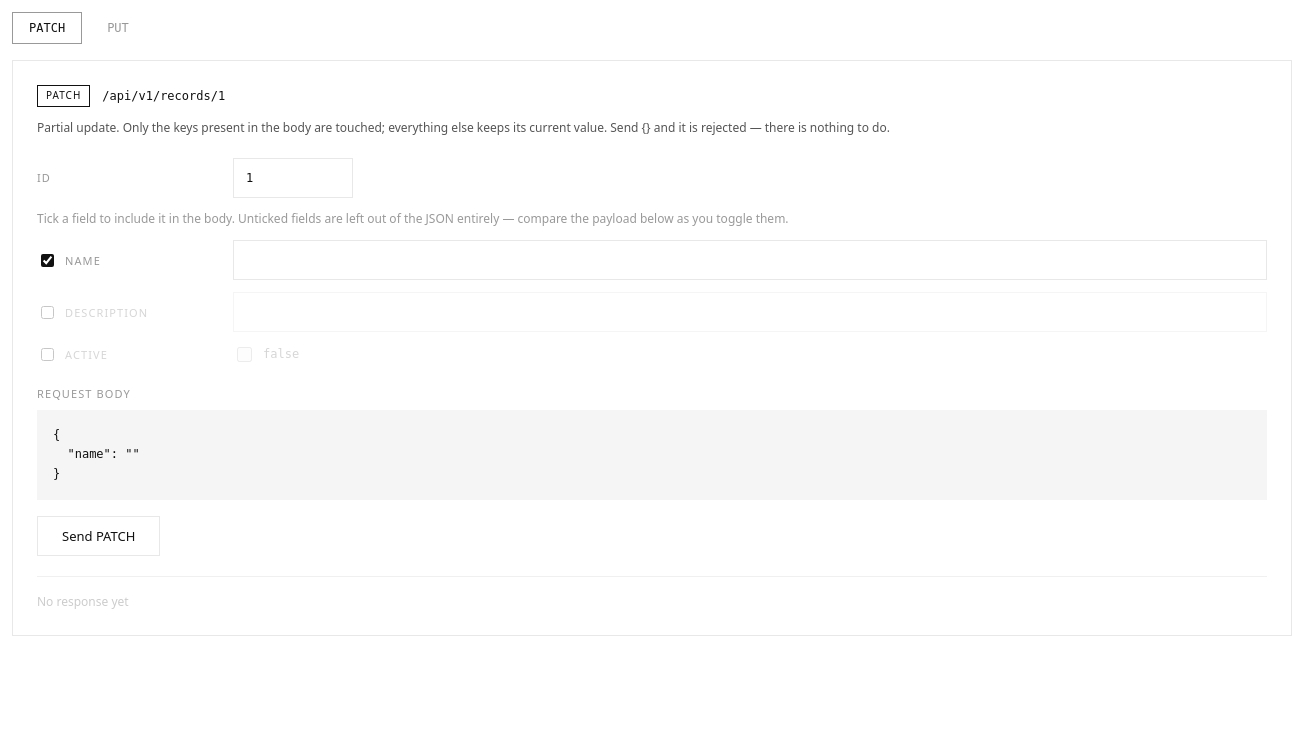
PATCH › disables send when nothing is ticked, because {} is rejected by the API
Click the checkbox named "Include name in the request body" at point(48, 260), box [41, 254, 54, 267]
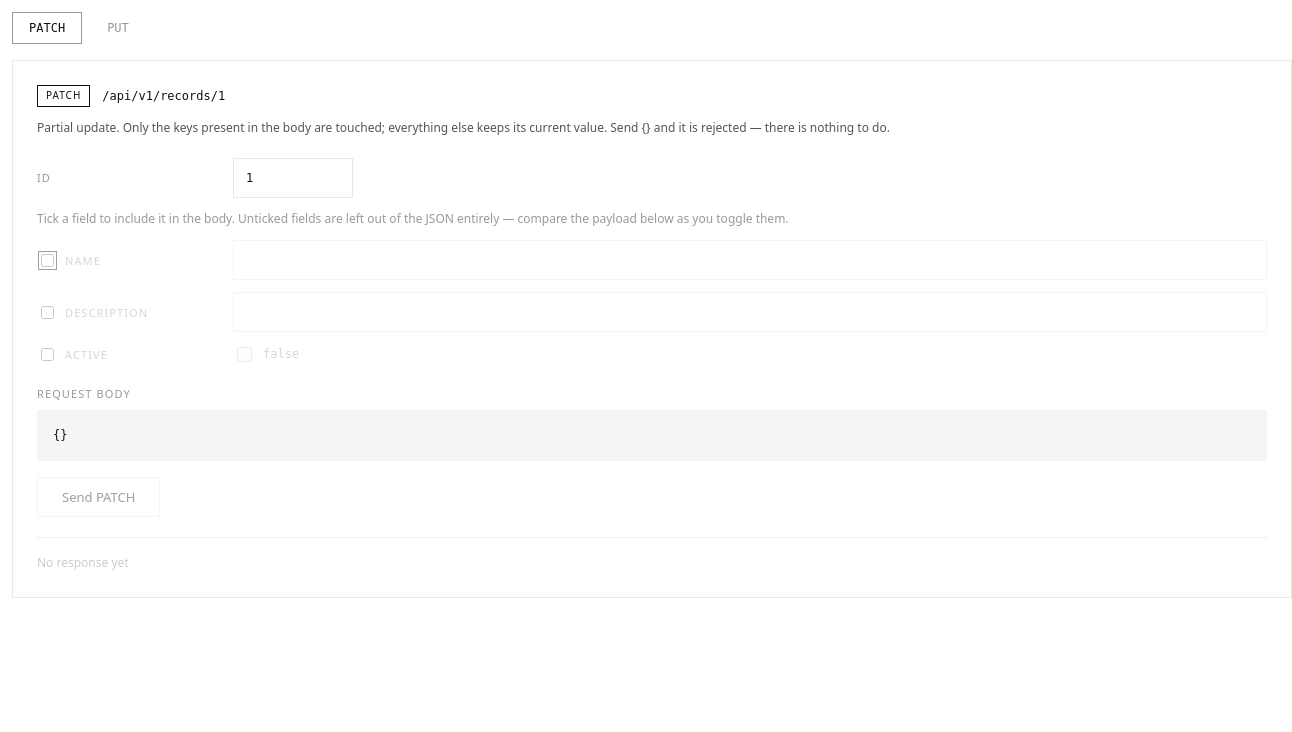
Expected: the button "Send PATCH" is disabled, [37, 477, 160, 517]
